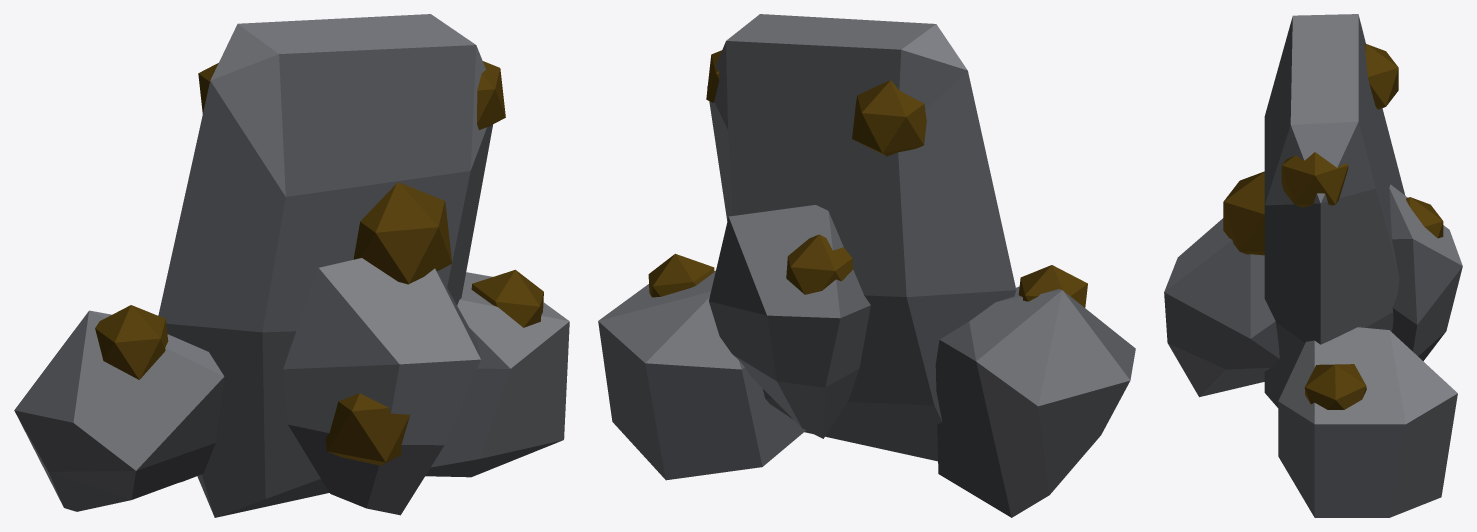
Rendered from Gold Ore.fbx.
3 renders of one model, left to right at view 1: azimuth 30°, elevation 25°; view 2: azimuth 150°, elevation 25°; view 3: azimuth 270°, elevation 25°, orthographic. The views are drawn at different scales.
Parts seen in each view (by area): view 1: Cube.006; view 2: Cube.006; view 3: Cube.006.
Boxes of the visible parts, x1=… form: Cube.006: x1=14, y1=14, x2=569, y2=517; Cube.006: x1=598, y1=14, x2=1135, y2=517; Cube.006: x1=1164, y1=14, x2=1462, y2=517.
Size of the model in its own units: 89.04 by 76.52 by 51.81.
